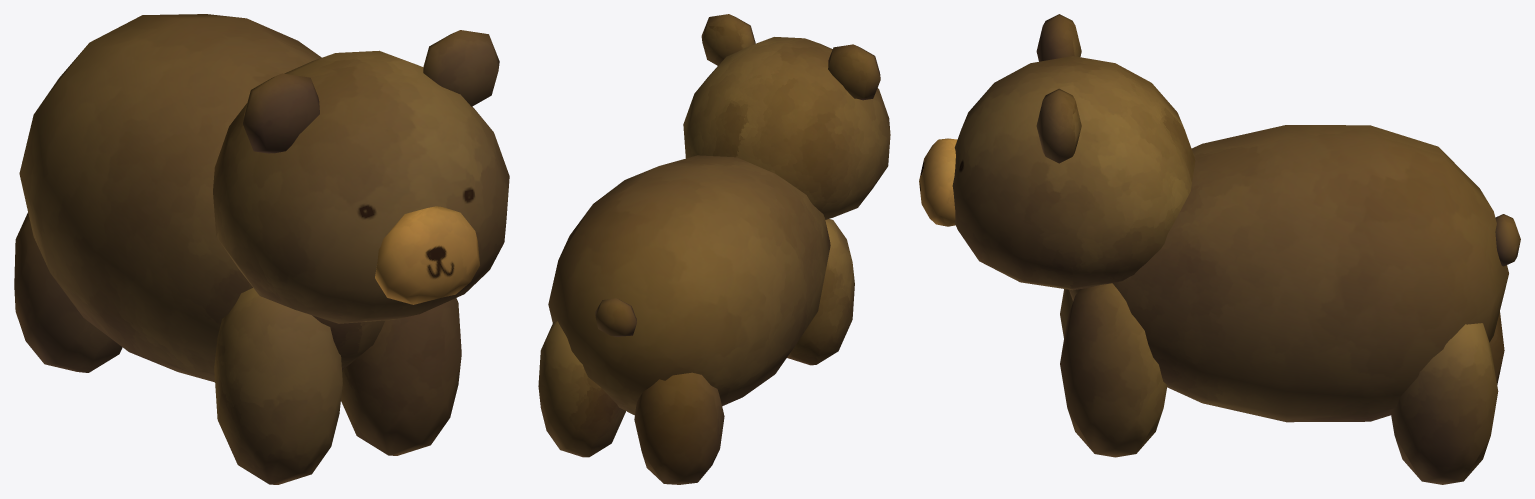
File: Oso Grande Para Test.fbx
3 renders of one model, left to right at view 1: azimuth 30°, elevation 25°; view 2: azimuth 150°, elevation 25°; view 3: azimuth 270°, elevation 25°, orthographic. The views are drawn at different scales.
Parts seen in each view (by area): view 1: Cube.002; view 2: Cube.002; view 3: Cube.002.
Part boxes in pixels (x1,y1,x2,y2): Cube.002: (14,14,509,484); Cube.002: (538,14,890,484); Cube.002: (919,14,1520,484).
Bounding box in the file's own units: 198 × 299 × 405.
3 materials, 3 textured.
